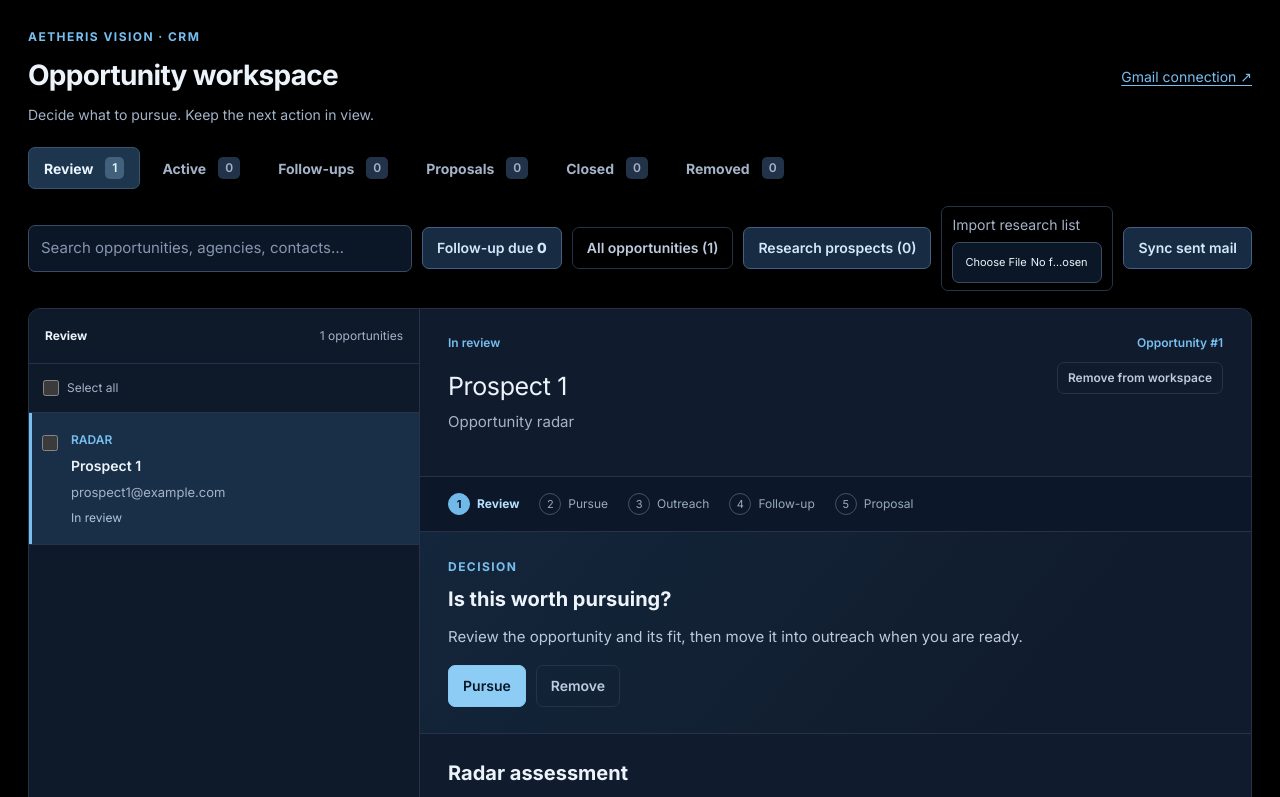
Scenario: admin lead email drafting › refreshes the queues after an authorized sent-mail sync
Check: the heading "Prospect 1" is shown, box [448,370,567,400]
Step 1. Click the button "Sync sent mail" → (1188, 248), box [1123,228,1252,269]
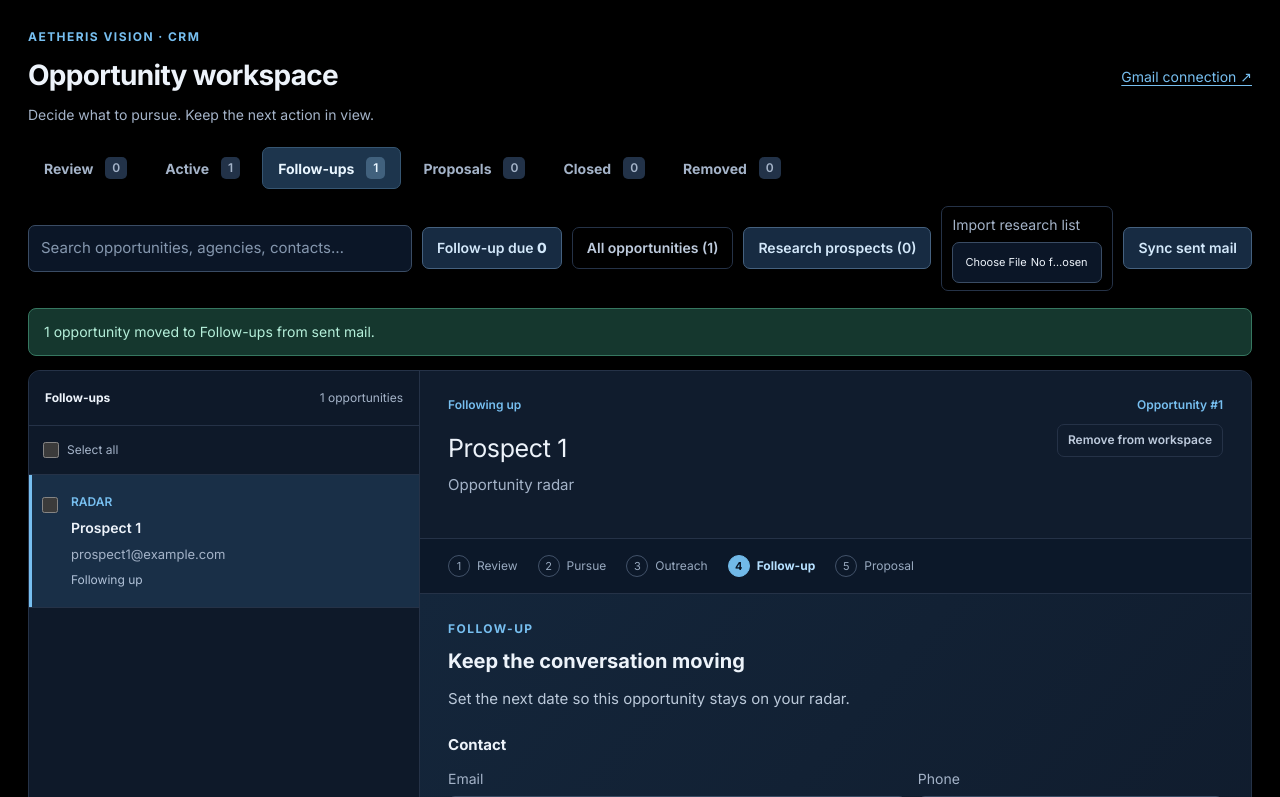
Check: the text "1 opportunity moved to Follow-ups from sent mail." is shown, box [28,308,1252,356]
Check: the button "Review 0" is shown, box [28,147,143,189]
Check: the button "Follow-ups 1" is shown, box [262,147,401,189]
